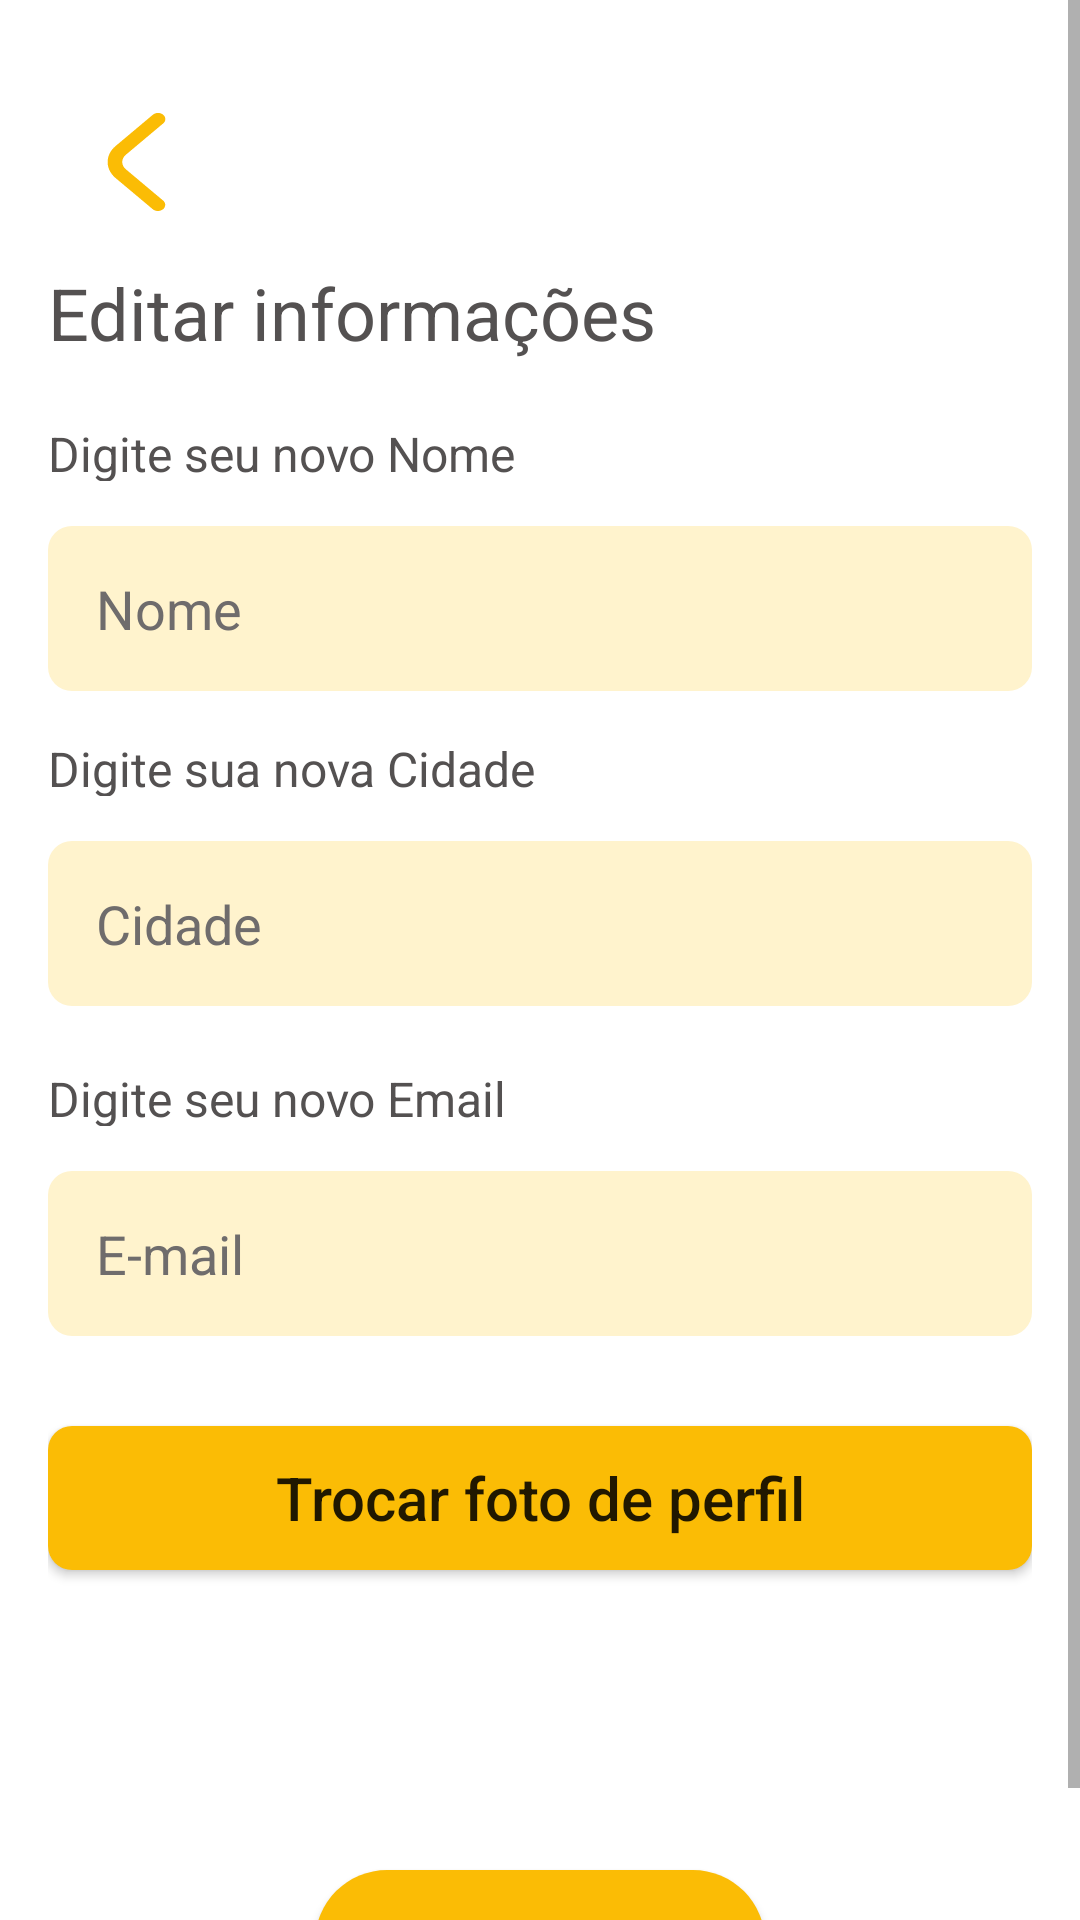

Icons on this 1080px x 1920px Android screen, each with the point to tap as (x,y):
retornar: (136,162)
